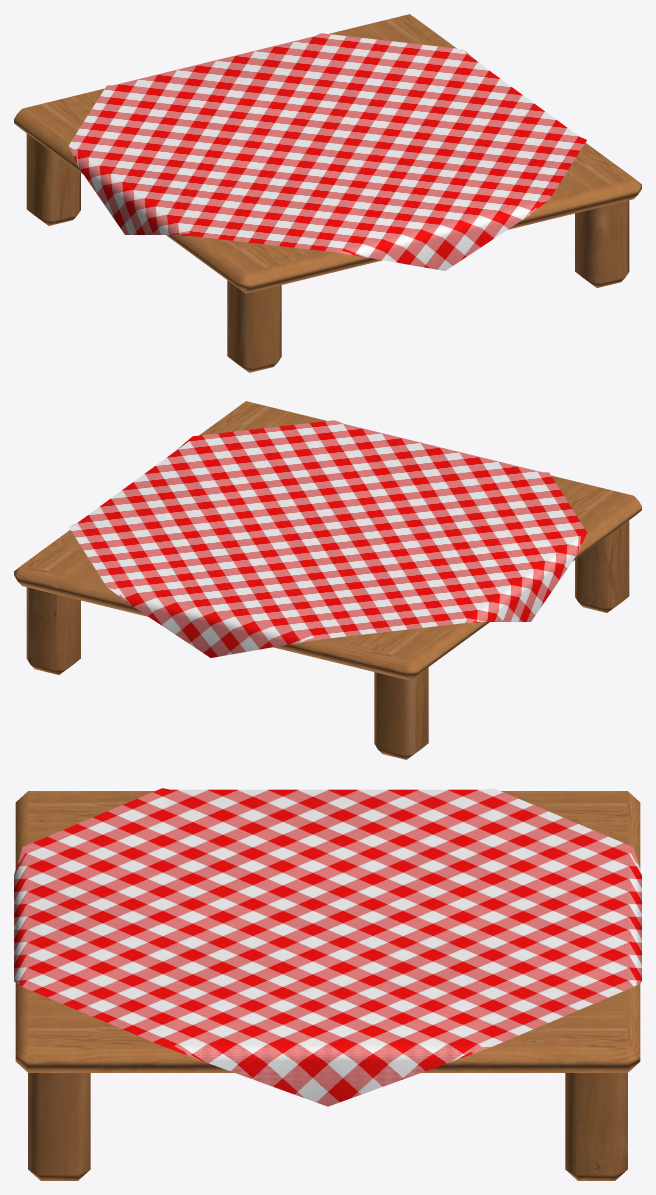
File: shop_display.fbx
3 renders of one model, top to bottom at view 1: azimuth 30°, elevation 25°; view 2: azimuth 150°, elevation 25°; view 3: azimuth 270°, elevation 25°, orthographic. The views are drawn at different scales.
Parts seen in each view (by area): view 1: shop_display.002; view 2: shop_display.002; view 3: shop_display.002.
Boxes of the visible parts, x1,y1,x2,y2 form: shop_display.002: (14, 14, 641, 372); shop_display.002: (14, 401, 641, 759); shop_display.002: (14, 788, 641, 1180).
Size of the model in its own units: 32.17 by 8.04 by 32.17.
